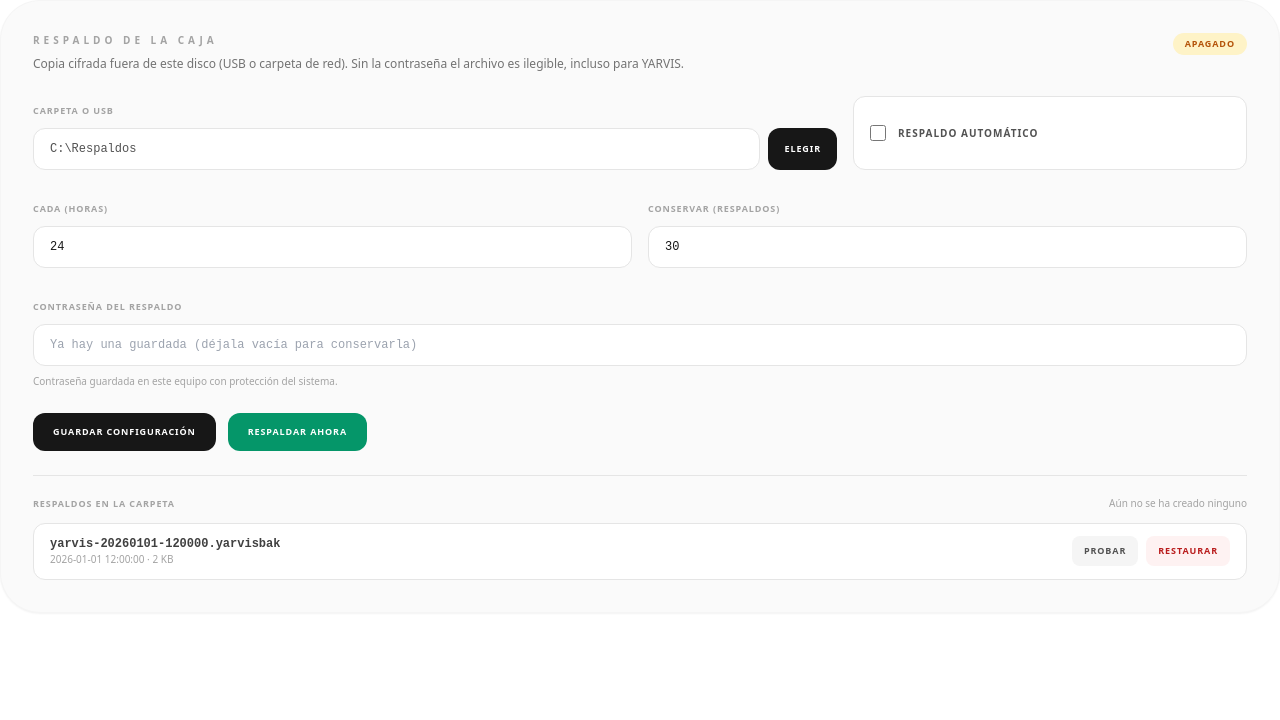
Test: respaldos · UI › restaurar exige una segunda confirmación y permite cancelar
Expected: the text "yarvis-20260101-120000.yarvisbak" is shown, 50,536 -> 280,552
What coordinates should you click on to do the following:
click the button "Restaurar"
I would click on:
 (1188, 551)
Its box is 1146,536 -> 1230,566.
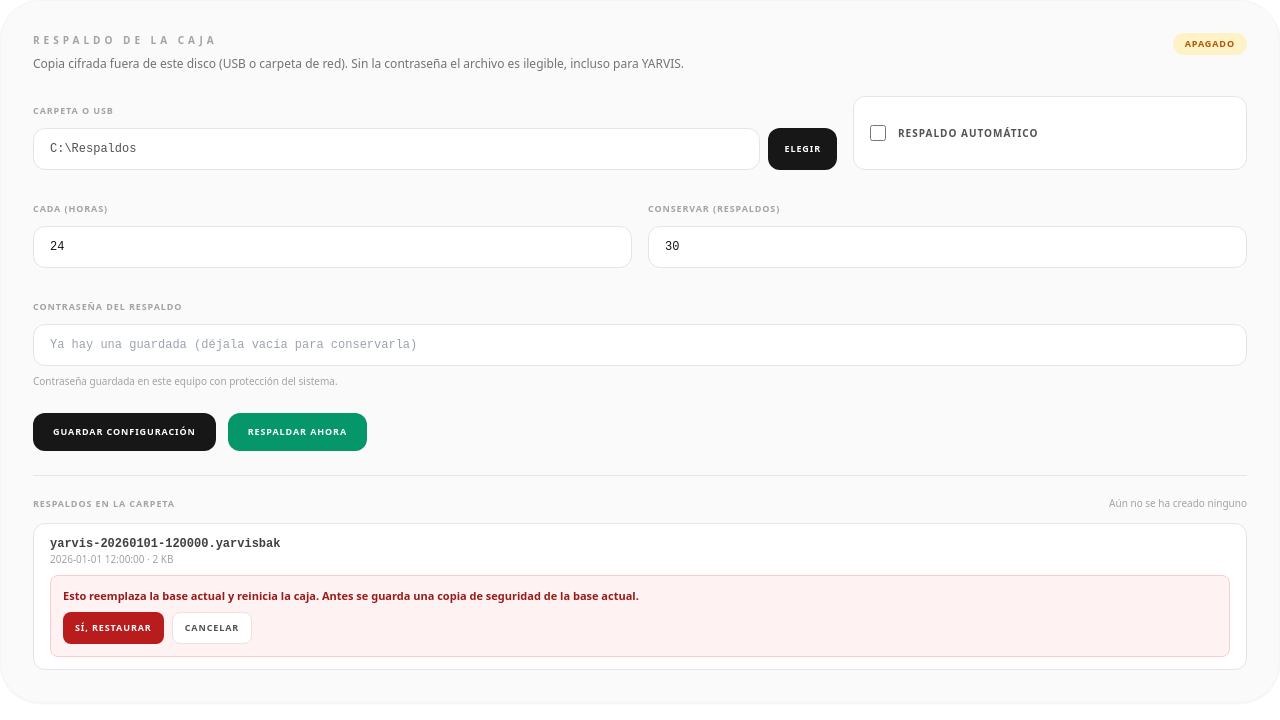
Expected: the text "reemplaza la base actual" is shown, 63,588 -> 639,602
What coordinates should you click on to do the following:
click the button "Cancelar"
I would click on:
 (212, 628)
Its box is 172,612 -> 252,644.
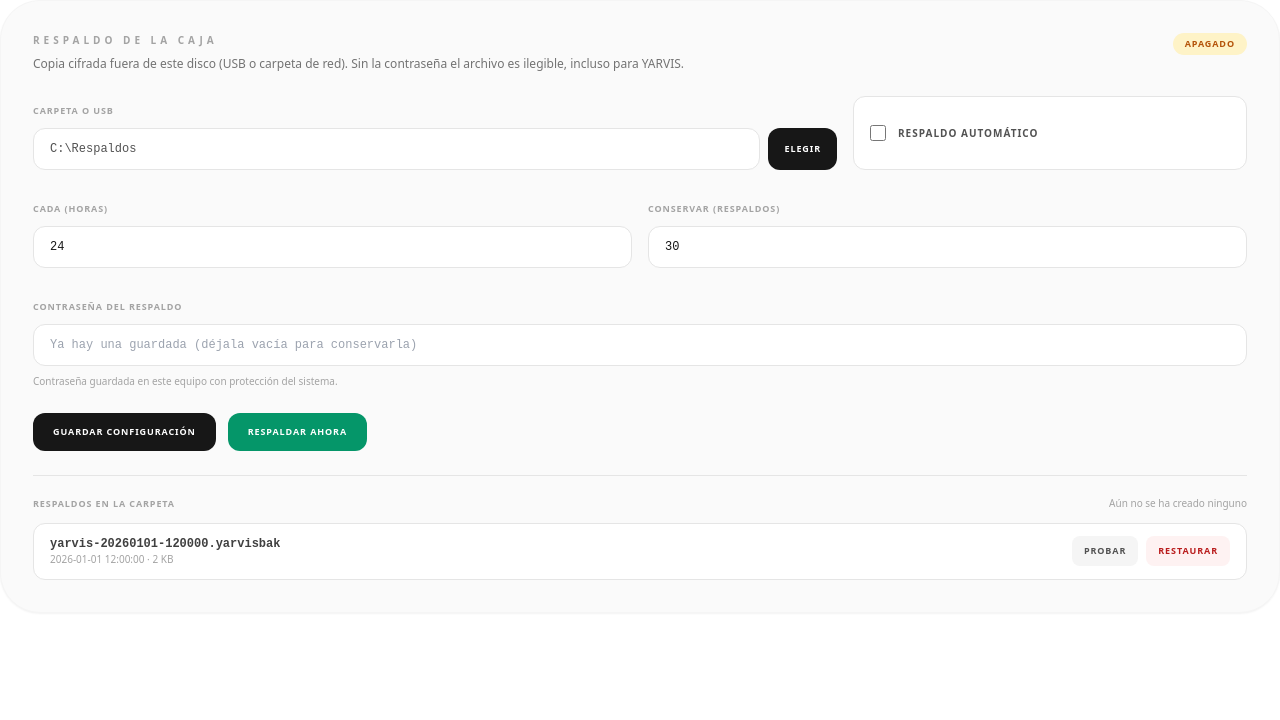
Expected: the text "reemplaza la base actual" is gone
